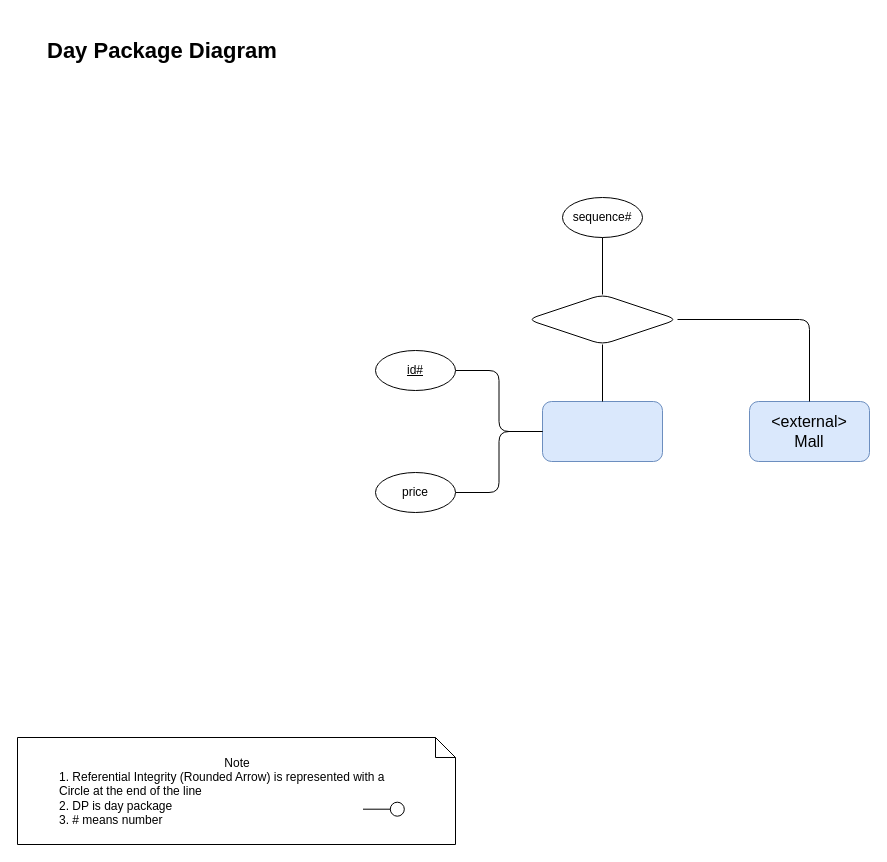
The diagram is 887 pixels wide and 862 high, and some of its shapes have lost their labels. Each missing label, with the box of its shape:
DayPackage: (542, 400, 662, 462)
route: (526, 294, 678, 344)
